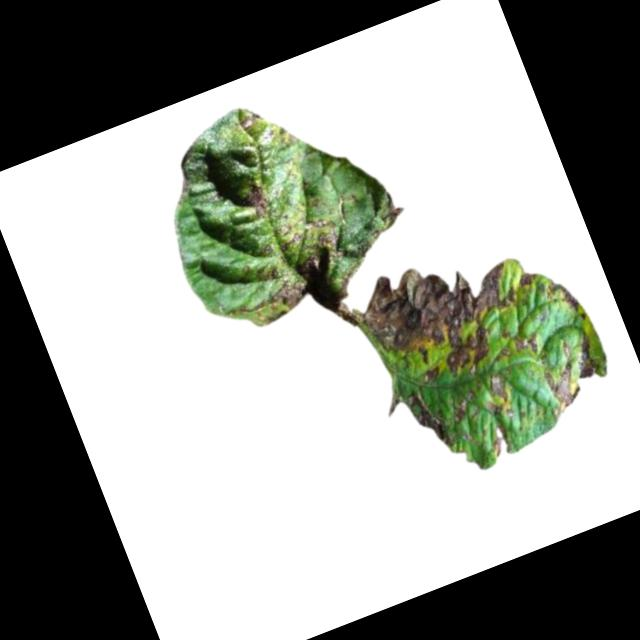Early_blight: (351, 230, 541, 402), (215, 205, 364, 329), (382, 384, 456, 465), (538, 355, 587, 415), (565, 329, 606, 381), (556, 275, 588, 324), (237, 179, 273, 222), (445, 388, 482, 428), (482, 420, 518, 460), (485, 369, 514, 406), (512, 330, 544, 360), (517, 268, 539, 287), (484, 397, 504, 417), (236, 110, 256, 129)
